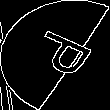P_SE: (15, 26, 95, 84)
